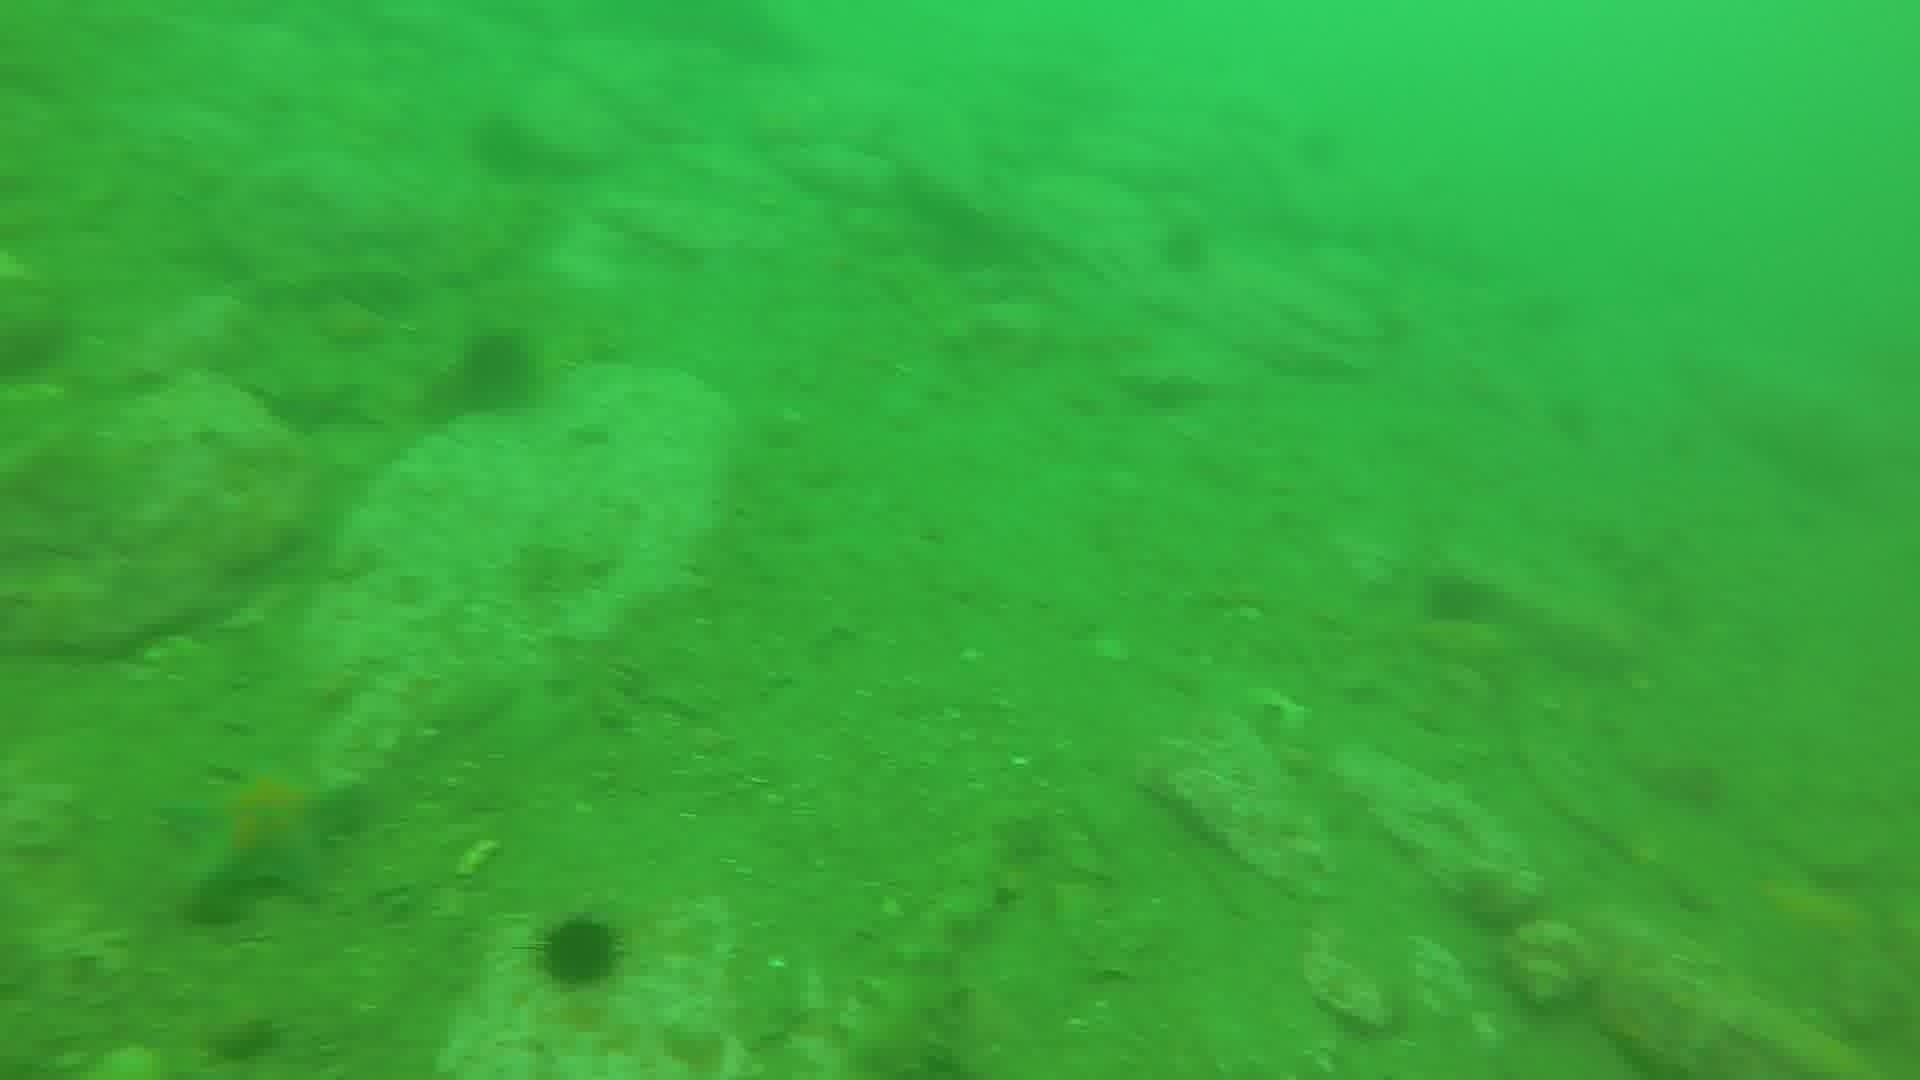echinus: (450, 324, 543, 417), (531, 911, 626, 994), (464, 109, 545, 185), (1418, 567, 1502, 634), (1153, 218, 1216, 280)
holothurian: (837, 862, 1054, 1080)
starfish: (156, 752, 367, 920), (251, 369, 375, 439)
